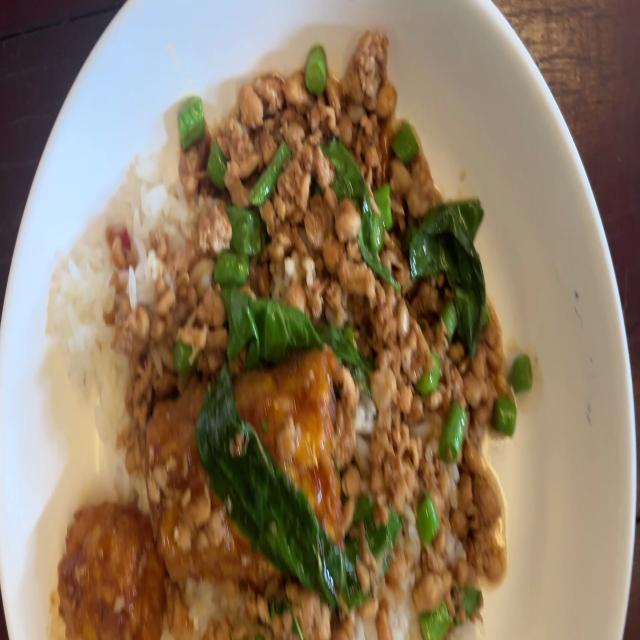01rice: (72, 118, 155, 428)
fried_tofo: (155, 371, 338, 553), (49, 501, 164, 634)
minced_pork: (176, 42, 470, 349), (364, 263, 523, 640), (215, 580, 372, 640)
stir_fried_basil: (59, 28, 526, 640)
